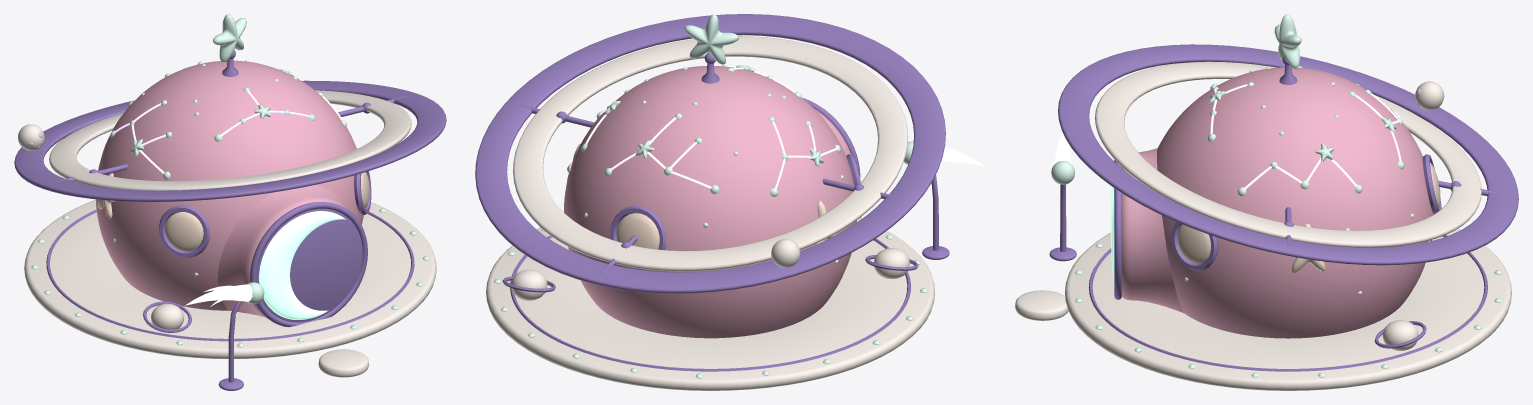
Rendered from house_07_0708.fbx.
3 views of the same model, side by side, from view 1: azimuth 30°, elevation 25°; view 2: azimuth 150°, elevation 25°; view 3: azimuth 270°, elevation 25° (orthographic). The views are drawn at different scales.
Parts seen in each view (by area): view 1: House07_PlanetDome, House07_RingDeck_Engawa, House07_PlanetRing_Outer, House07_PlanetRing_Inner, House07_MoonDisc, House07_EntrancePod, House07_CrescentDoor, House07_MoonDiscRim, House07_DeckGoldInlay, House07_RoundWindows, House07_WindowRims, House07_MoonStep (+10 smaller); view 2: House07_PlanetDome, House07_RingDeck_Engawa, House07_PlanetRing_Outer, House07_PlanetRing_Inner, House07_DeckGoldInlay, House07_PlanetStools, House07_TopStar, House07_ConstellationLines, House07_RoundWindows, House07_WindowRims, House07_RingSupports, House07_ConstellationDots (+6 smaller); view 3: House07_PlanetDome, House07_RingDeck_Engawa, House07_PlanetRing_Outer, House07_PlanetRing_Inner, House07_EntrancePod, House07_DeckGoldInlay, House07_MoonStep, House07_RoundWindows, House07_WindowRims, House07_TopStar, House07_MoonDiscRim, House07_ConstellationLines (+6 smaller).
Part boxes in pixels (<box>): House07_PlanetDome: <box>96,60,363,310</box>; House07_RingDeck_Engawa: <box>24,199,436,358</box>; House07_PlanetRing_Outer: <box>14,80,446,201</box>; House07_PlanetRing_Inner: <box>49,90,411,190</box>; House07_MoonDisc: <box>257,208,362,322</box>; House07_EntrancePod: <box>217,185,347,318</box>; House07_CrescentDoor: <box>259,211,345,319</box>; House07_MoonDiscRim: <box>250,202,367,327</box>; House07_DeckGoldInlay: <box>46,209,414,341</box>; House07_RoundWindows: <box>165,172,369,251</box>; House07_WindowRims: <box>159,171,371,257</box>; House07_MoonStep: <box>318,349,368,377</box>; House07_PlanetDome: <box>564,66,856,338</box>; House07_RingDeck_Engawa: <box>486,218,934,390</box>; House07_PlanetRing_Outer: <box>475,14,945,293</box>; House07_PlanetRing_Inner: <box>513,36,908,271</box>; House07_DeckGoldInlay: <box>510,235,910,371</box>; House07_PlanetStools: <box>511,248,909,300</box>; House07_TopStar: <box>684,14,738,64</box>; House07_ConstellationLines: <box>585,66,837,188</box>; House07_RoundWindows: <box>616,175,860,249</box>; House07_WindowRims: <box>610,154,860,269</box>; House07_RingSupports: <box>518,104,902,272</box>; House07_ConstellationDots: <box>568,65,843,263</box>; House07_PlanetDome: <box>1157,67,1433,338</box>; House07_RingDeck_Engawa: <box>1065,228,1511,390</box>; House07_PlanetRing_Outer: <box>1058,44,1518,265</box>; House07_PlanetRing_Inner: <box>1095,61,1481,247</box>; House07_EntrancePod: <box>1121,148,1184,313</box>; House07_DeckGoldInlay: <box>1088,235,1487,371</box>; House07_MoonStep: <box>1015,290,1068,320</box>; House07_RoundWindows: <box>1177,162,1440,263</box>; House07_WindowRims: <box>1171,154,1441,270</box>; House07_TopStar: <box>1274,14,1301,68</box>; House07_MoonDiscRim: <box>1114,160,1121,299</box>; House07_ConstellationLines: <box>1210,84,1401,189</box>.
Bounding box in the file's own units: 5.48 × 3.79 × 5.86.
